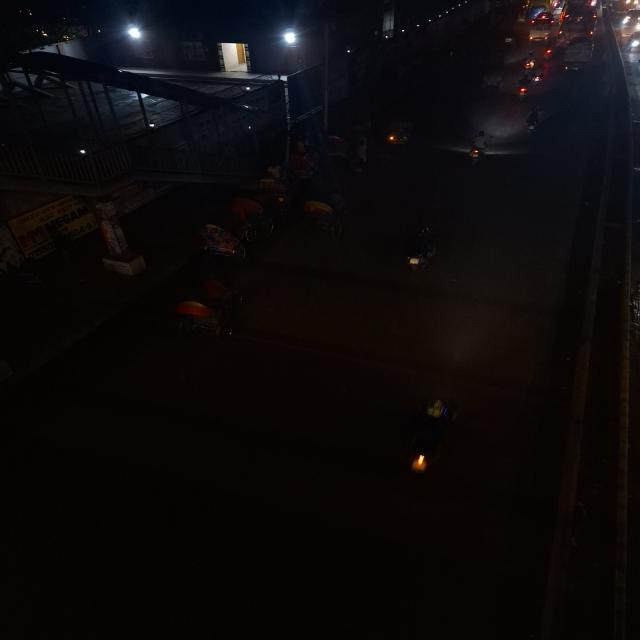bus: (528, 11, 556, 43)
car: (626, 26, 640, 64)
cng: (379, 112, 420, 153)
motorcycle: (391, 394, 468, 481), (397, 225, 443, 278), (462, 128, 493, 168), (518, 53, 546, 87), (521, 104, 546, 140), (515, 72, 536, 102), (522, 49, 537, 73), (542, 38, 556, 61)
pickup_van: (562, 34, 598, 76)
rickshaw: (187, 193, 283, 264), (169, 279, 246, 345), (300, 195, 355, 242)
truck: (561, 34, 598, 76)
